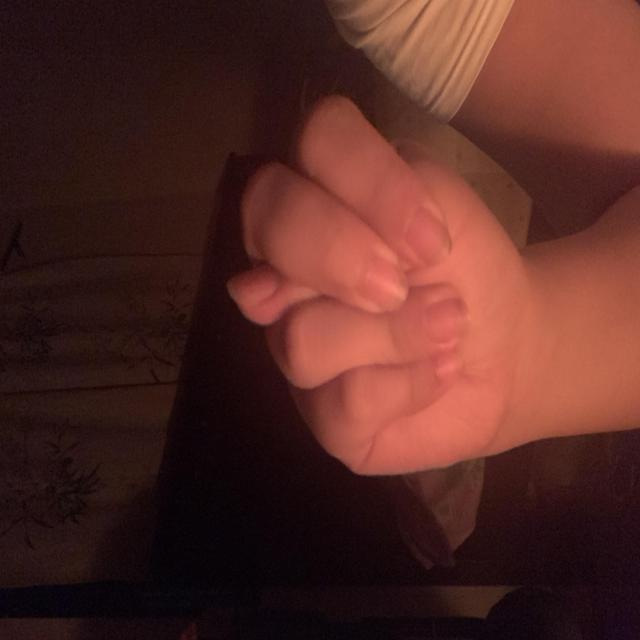N: (97, 225, 478, 521)
